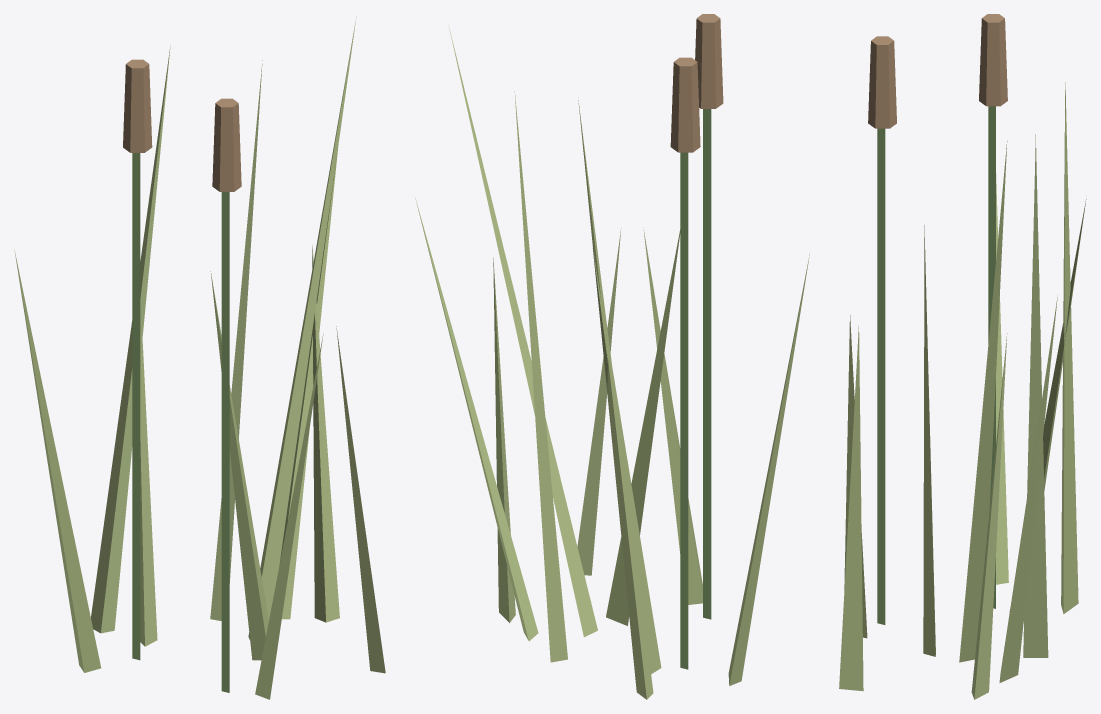
Rendered from junco_0.fbx.
3 renders of one model, left to right at view 1: azimuth 30°, elevation 25°; view 2: azimuth 150°, elevation 25°; view 3: azimuth 270°, elevation 25°, orthographic. The views are drawn at different scales.
Parts seen in each view (by area): view 1: junco_0~Folha 1@reed, junco_0~Folha 7@reed, junco_0~Folha 5@reed, junco_0~Folha 0@reed, junco_0~Haste 1@stem, junco_0~Haste 0@stem, junco_0~Folha 2@reed, junco_0~Folha 8@reed, junco_0~Folha 4@reed, junco_0~Folha 3@reed, junco_0~Folha 9@reed, junco_0~Folha 6@reed (+2 smaller); view 2: junco_0~Folha 8@reed, junco_0~Folha 1@reed, junco_0~Haste 1@stem, junco_0~Haste 0@stem, junco_0~Folha 7@reed, junco_0~Folha 2@reed, junco_0~Folha 6@reed, junco_0~Folha 5@reed, junco_0~Folha 3@reed, junco_0~Folha 9@reed, junco_0~Folha 0@reed, junco_0~Espiga 1@cattail (+2 smaller); view 3: junco_0~Folha 7@reed, junco_0~Folha 8@reed, junco_0~Folha 1@reed, junco_0~Folha 9@reed, junco_0~Haste 0@stem, junco_0~Folha 6@reed, junco_0~Folha 0@reed, junco_0~Folha 2@reed, junco_0~Espiga 1@cattail, junco_0~Espiga 0@cattail, junco_0~Folha 5@reed, junco_0~Haste 1@stem (+2 smaller).
Part boxes in pixels (box(x1,y1,x2,y2)): junco_0~Folha 1@reed: box(91, 45, 170, 633); junco_0~Folha 7@reed: box(248, 16, 356, 639); junco_0~Folha 5@reed: box(14, 251, 101, 672); junco_0~Folha 0@reed: box(312, 245, 339, 622); junco_0~Haste 1@stem: box(132, 153, 140, 660); junco_0~Haste 0@stem: box(221, 192, 229, 692); junco_0~Folha 2@reed: box(210, 271, 268, 660); junco_0~Folha 8@reed: box(210, 60, 262, 620); junco_0~Folha 4@reed: box(140, 329, 157, 646); junco_0~Folha 3@reed: box(255, 333, 323, 699); junco_0~Folha 9@reed: box(336, 326, 385, 673); junco_0~Folha 6@reed: box(279, 147, 338, 619); junco_0~Folha 8@reed: box(514, 91, 567, 662); junco_0~Folha 1@reed: box(578, 97, 653, 699); junco_0~Haste 1@stem: box(680, 152, 688, 669); junco_0~Haste 0@stem: box(703, 109, 711, 619); junco_0~Folha 7@reed: box(449, 27, 597, 637); junco_0~Folha 2@reed: box(606, 230, 680, 625); junco_0~Folha 6@reed: box(415, 198, 538, 641); junco_0~Folha 5@reed: box(728, 253, 809, 685); junco_0~Folha 3@reed: box(643, 227, 702, 604); junco_0~Folha 9@reed: box(577, 228, 621, 575); junco_0~Folha 0@reed: box(493, 257, 515, 622); junco_0~Espiga 1@cattail: box(670, 57, 700, 152); junco_0~Folha 7@reed: box(959, 140, 1007, 662); junco_0~Folha 8@reed: box(1023, 134, 1048, 657); junco_0~Folha 1@reed: box(1061, 82, 1078, 613); junco_0~Folha 9@reed: box(839, 326, 863, 691); junco_0~Haste 0@stem: box(877, 128, 885, 624); junco_0~Folha 6@reed: box(999, 297, 1057, 683); junco_0~Folha 0@reed: box(971, 333, 1007, 699); junco_0~Folha 2@reed: box(923, 225, 935, 656); junco_0~Espiga 1@cattail: box(979, 14, 1007, 106); junco_0~Espiga 0@cattail: box(868, 36, 896, 128); junco_0~Folha 5@reed: box(996, 174, 1008, 584); junco_0~Haste 1@stem: box(988, 106, 995, 608).
Bounding box in the file's own units: 0.9825 × 1.57 × 0.5973.
